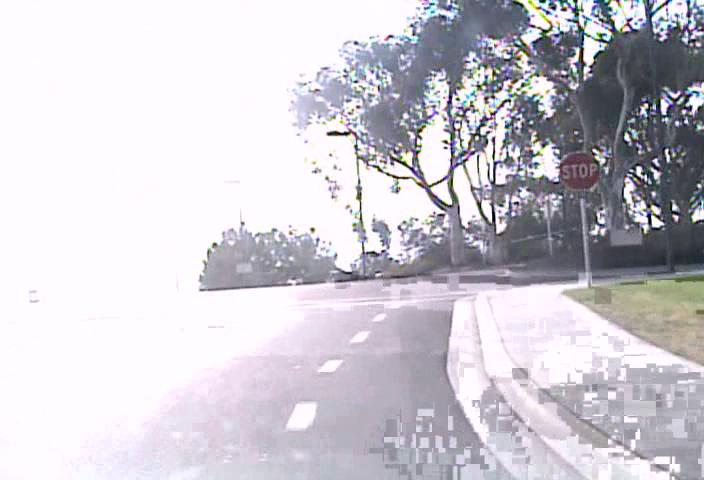stop: (558, 151, 600, 191)
